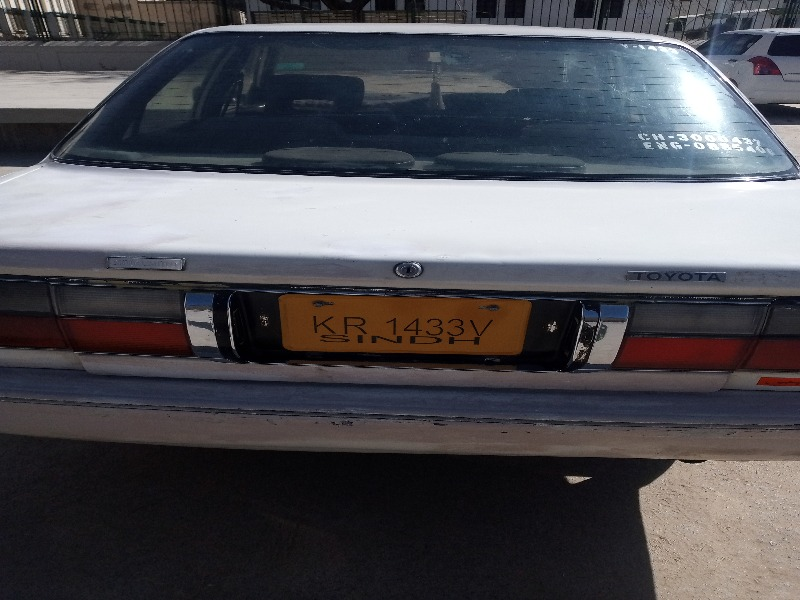License Plate: (274, 289, 534, 360)
